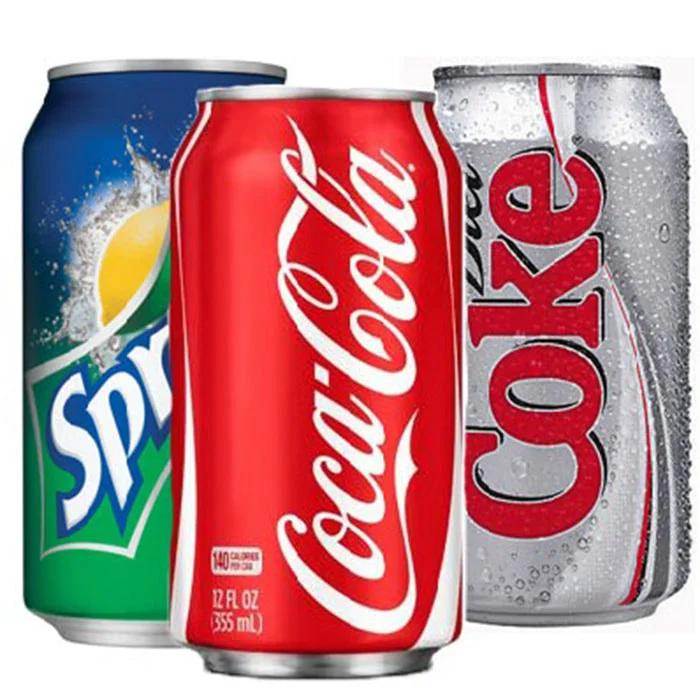can: (169, 86, 463, 677), (23, 59, 285, 646), (433, 59, 690, 625)
